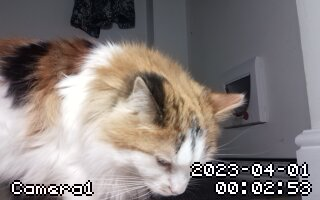clara: (3, 36, 243, 200)
